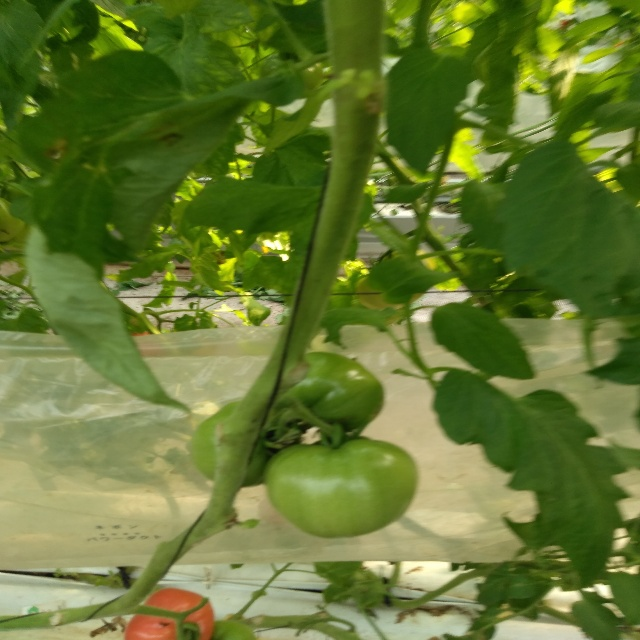b_green: (263, 434, 419, 539), (191, 400, 302, 488), (277, 352, 386, 434), (210, 619, 257, 640)
b_half_ripened: (124, 587, 214, 640)
